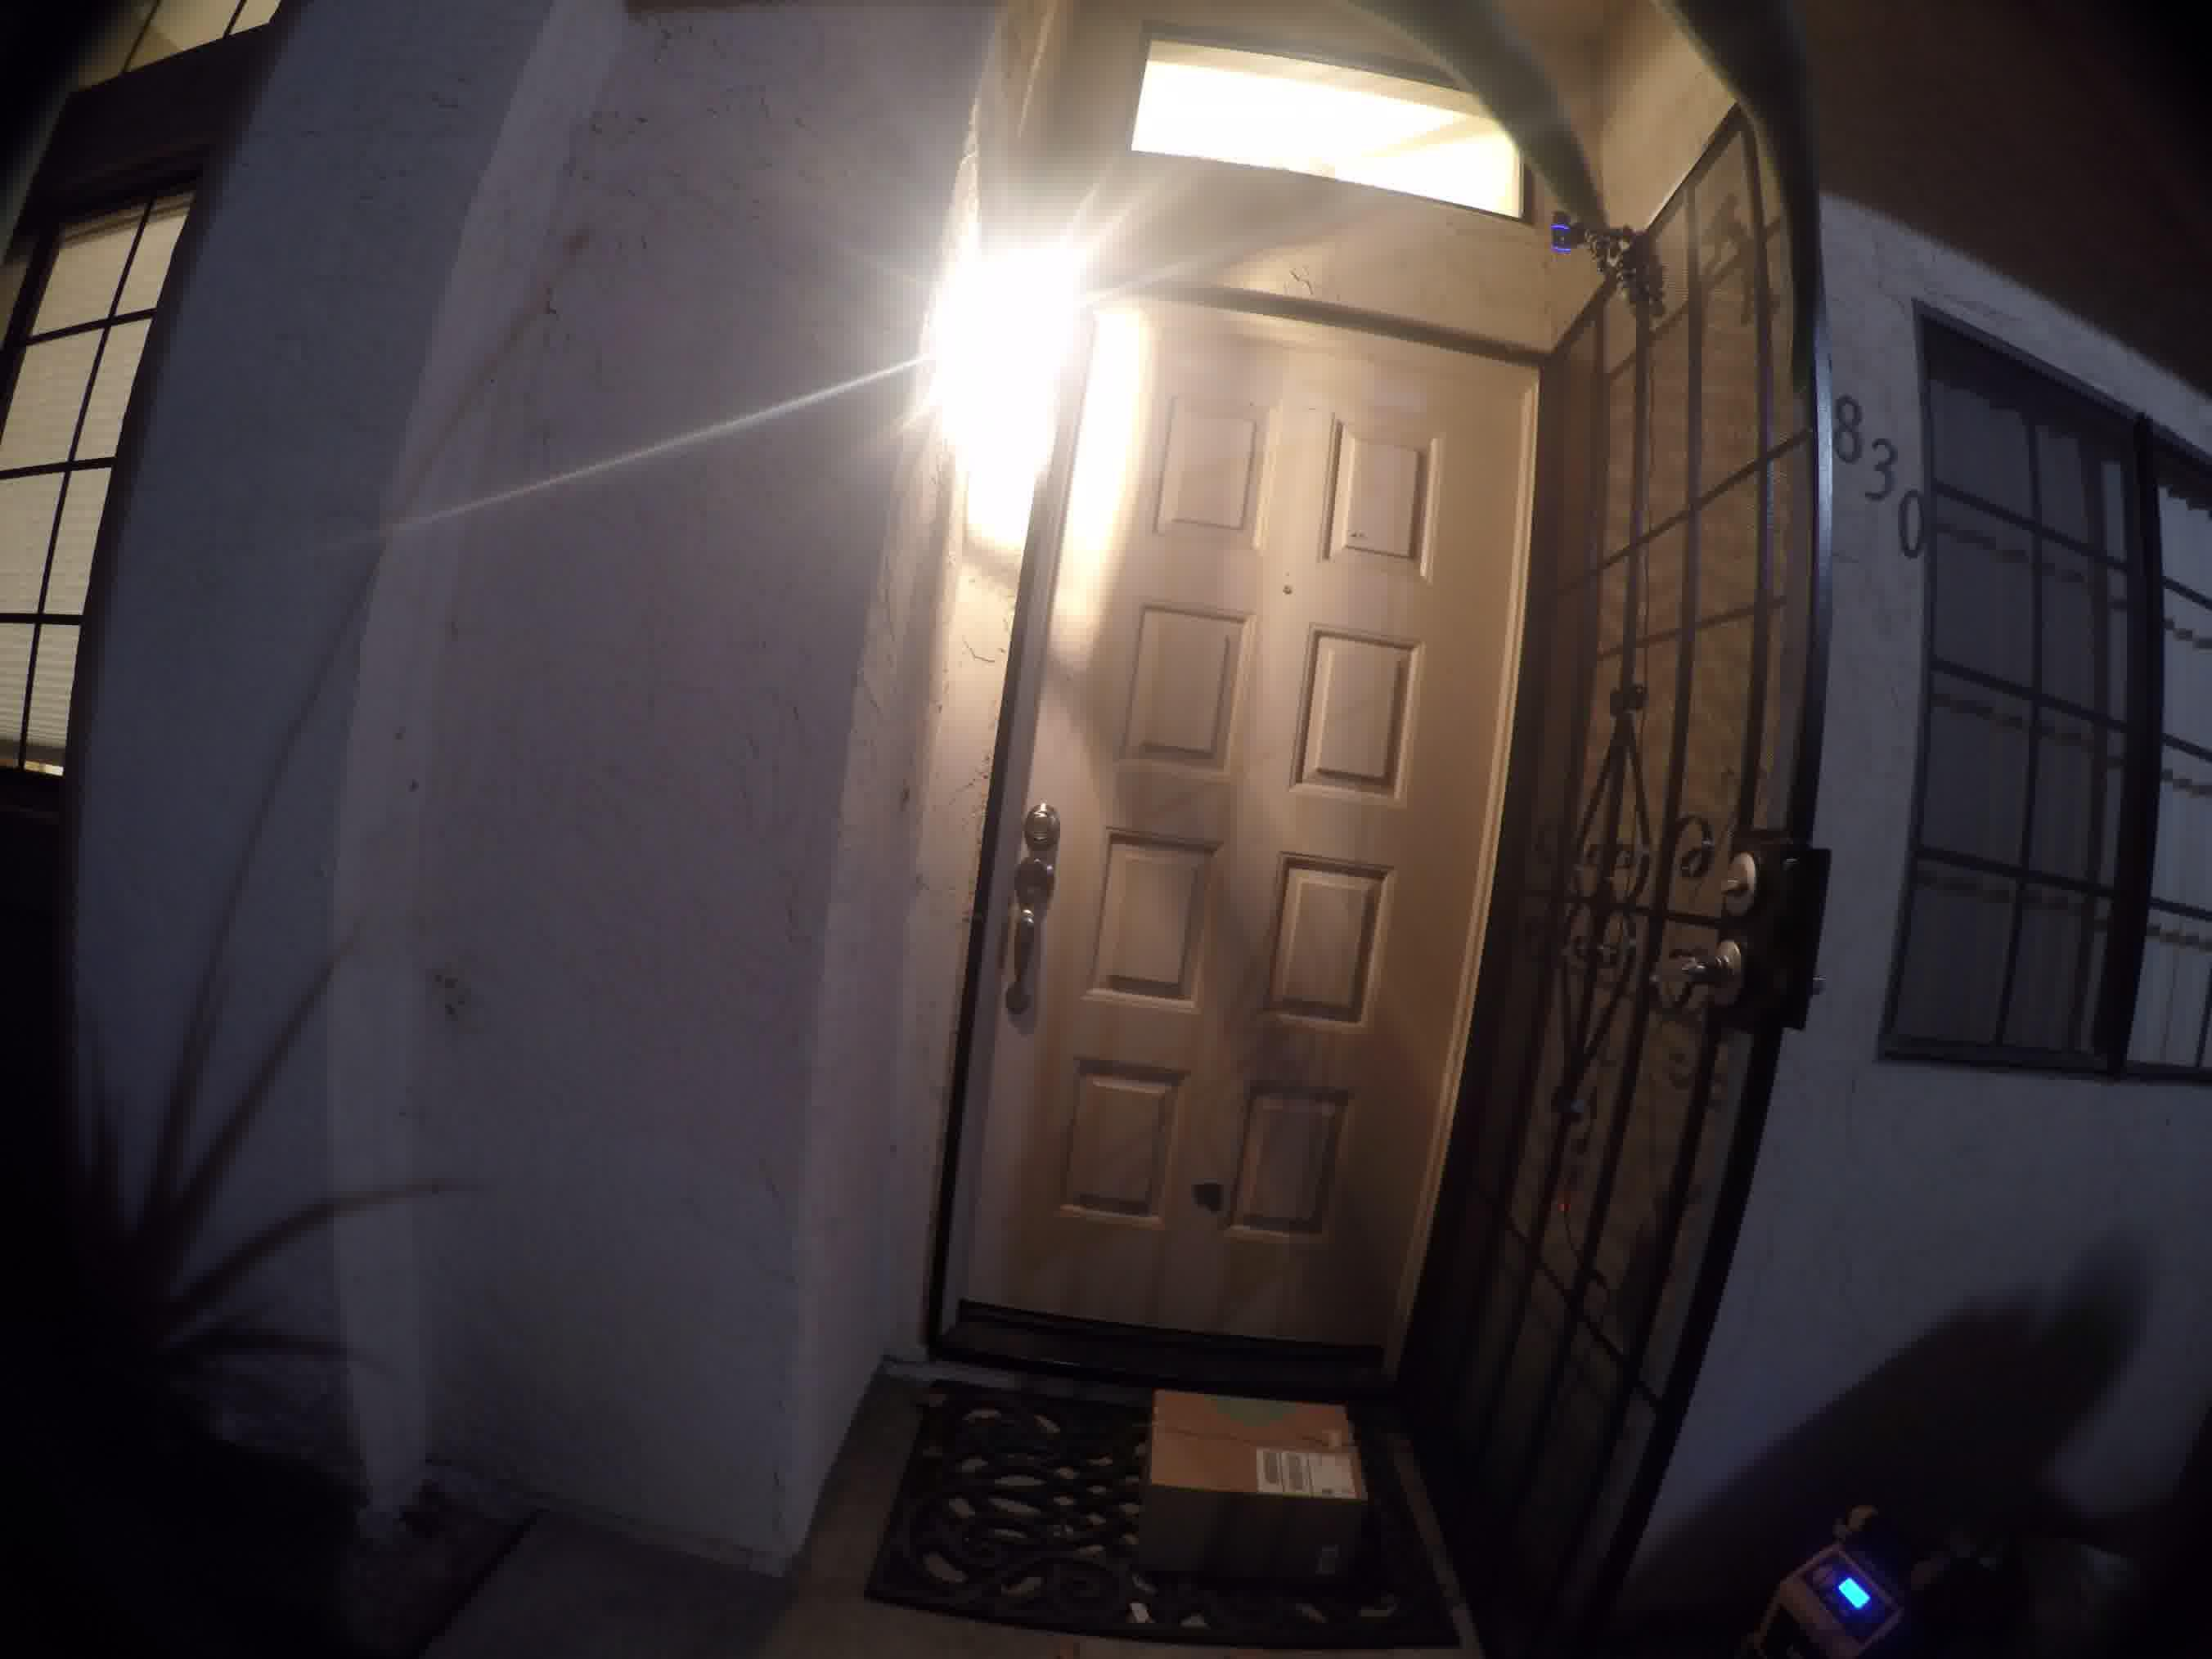box: (1136, 1380, 1369, 1582)
